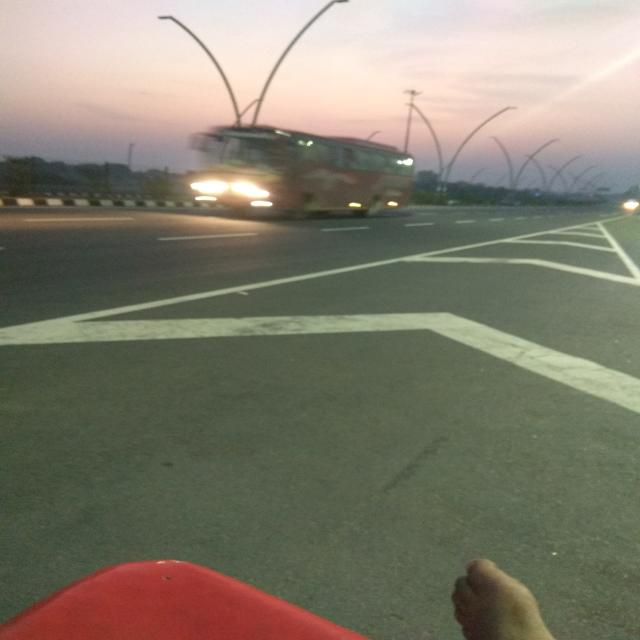Bus: (187, 125, 413, 214)
